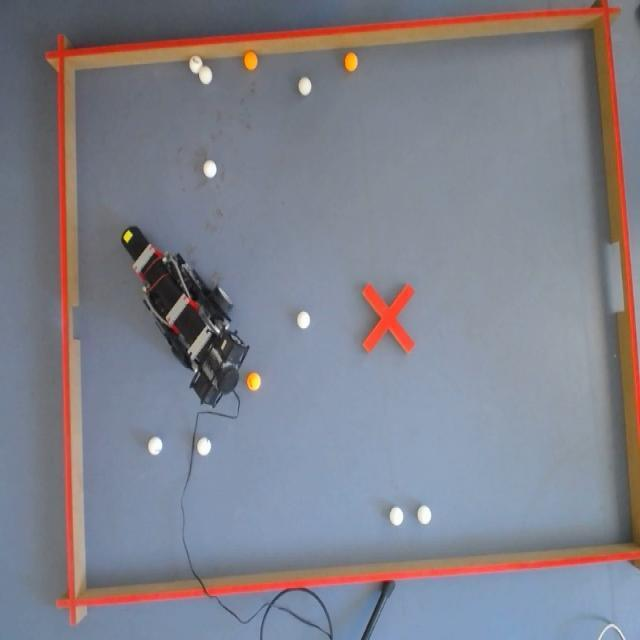orange: (241, 51, 259, 70), (342, 52, 358, 72), (247, 372, 260, 390)
robot: (118, 216, 254, 426)
white: (298, 76, 310, 98), (391, 506, 404, 526), (200, 64, 213, 84), (149, 437, 163, 455), (198, 438, 211, 457), (203, 160, 216, 179), (298, 309, 311, 328), (418, 504, 429, 526), (189, 56, 202, 74)
